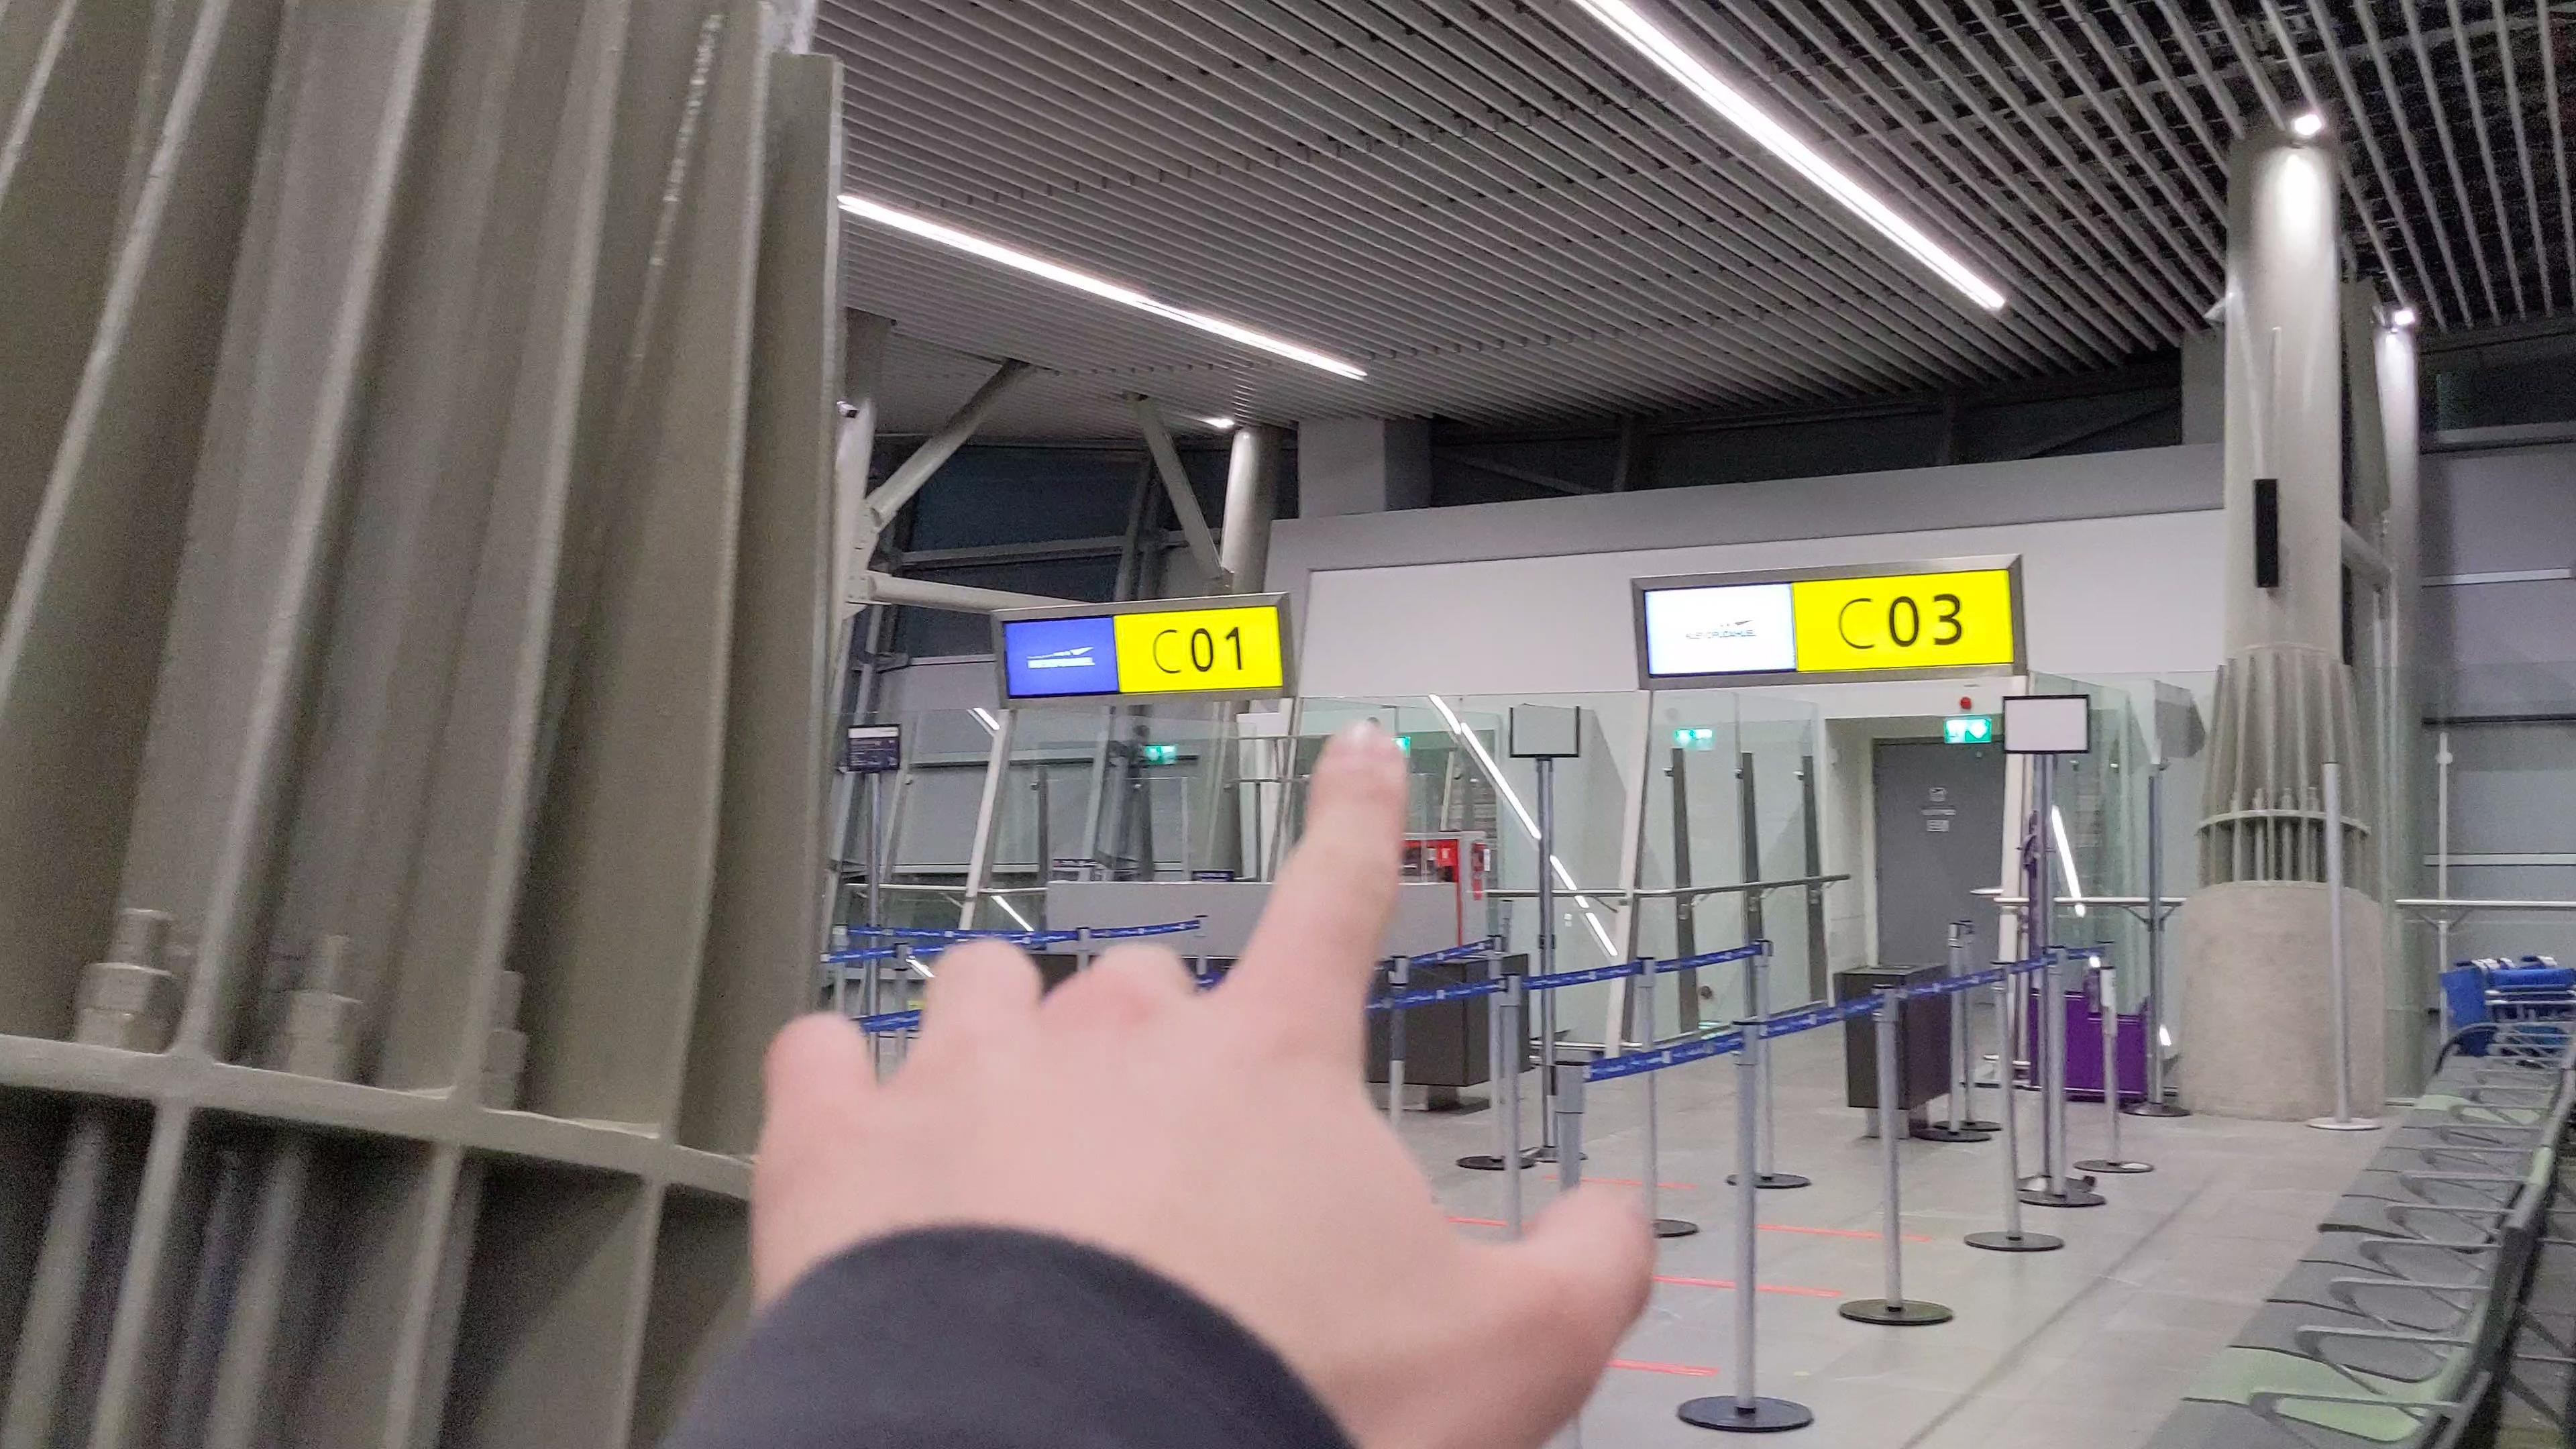emergency down arrow: (1966, 720, 1988, 742)
emergency exit: (1943, 720, 1964, 743)
